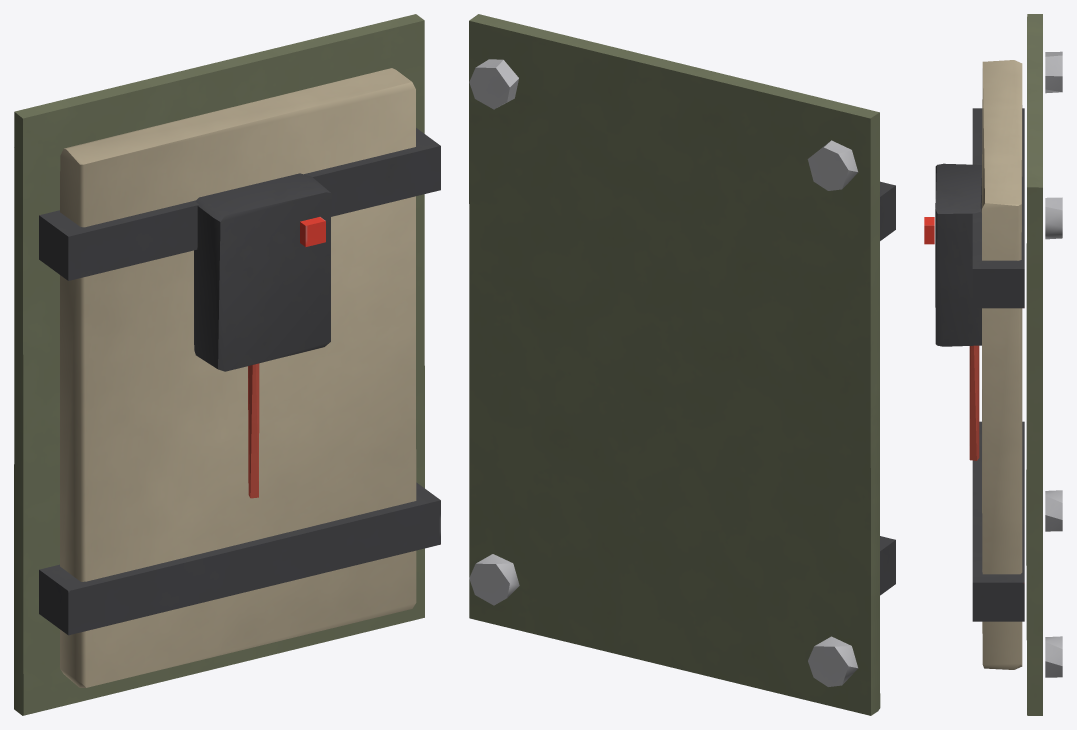
The model's file is SM_BreachCharge_LOD1.fbx.
3 views of the same model, side by side, from view 1: azimuth 30°, elevation 25°; view 2: azimuth 150°, elevation 25°; view 3: azimuth 270°, elevation 25° (orthographic). The views are drawn at different scales.
Visible parts, largest first — view 1: SM_BreachCharge_LOD1; view 2: SM_BreachCharge_LOD1; view 3: SM_BreachCharge_LOD1.
Boxes of the visible parts, x1,y1,x2,y2 form: SM_BreachCharge_LOD1: (14,14,440,715); SM_BreachCharge_LOD1: (469,14,895,715); SM_BreachCharge_LOD1: (924,14,1062,715).
Size of the model in its own units: 0.2374 by 0.3378 by 0.08.
Materials: 1 (1 with a texture image).
